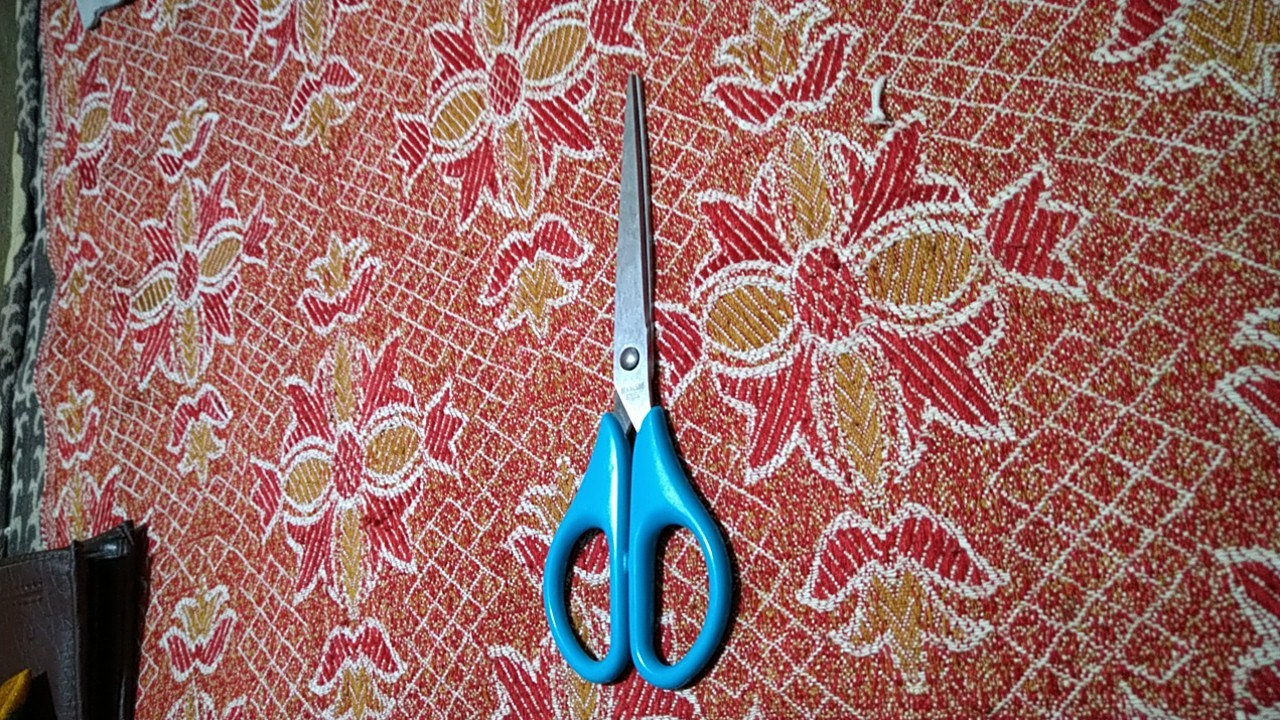scissor: (531, 40, 758, 699)
